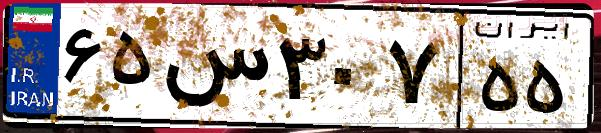0: (330, 28, 385, 110)
3: (270, 28, 330, 110)
5: (475, 38, 525, 113), (525, 38, 570, 115), (110, 28, 158, 98)
6: (57, 26, 110, 100)
7: (385, 28, 445, 110)
س: (158, 20, 270, 120)
